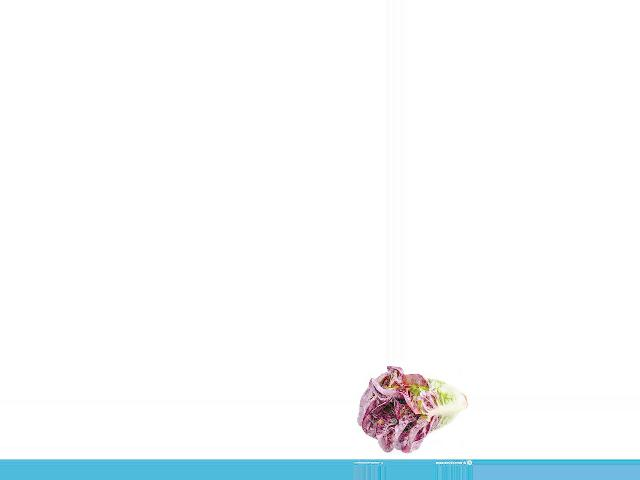lettuce: (359, 369, 468, 453)
